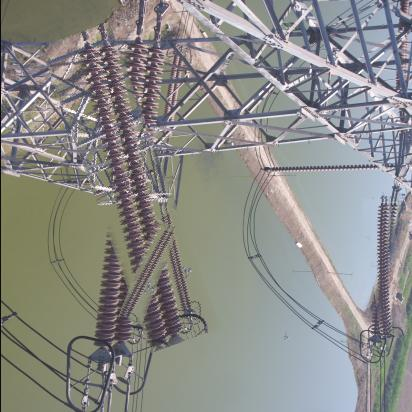insulator: (66, 25, 194, 353), (366, 197, 405, 339), (128, 221, 170, 325)
